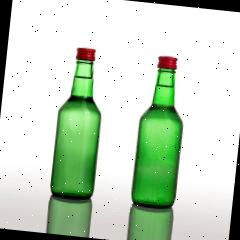glass: (48, 41, 191, 213)
